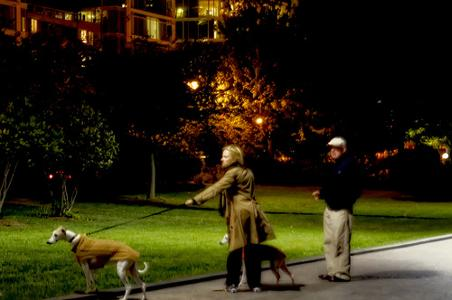person: (186, 145, 272, 294)
